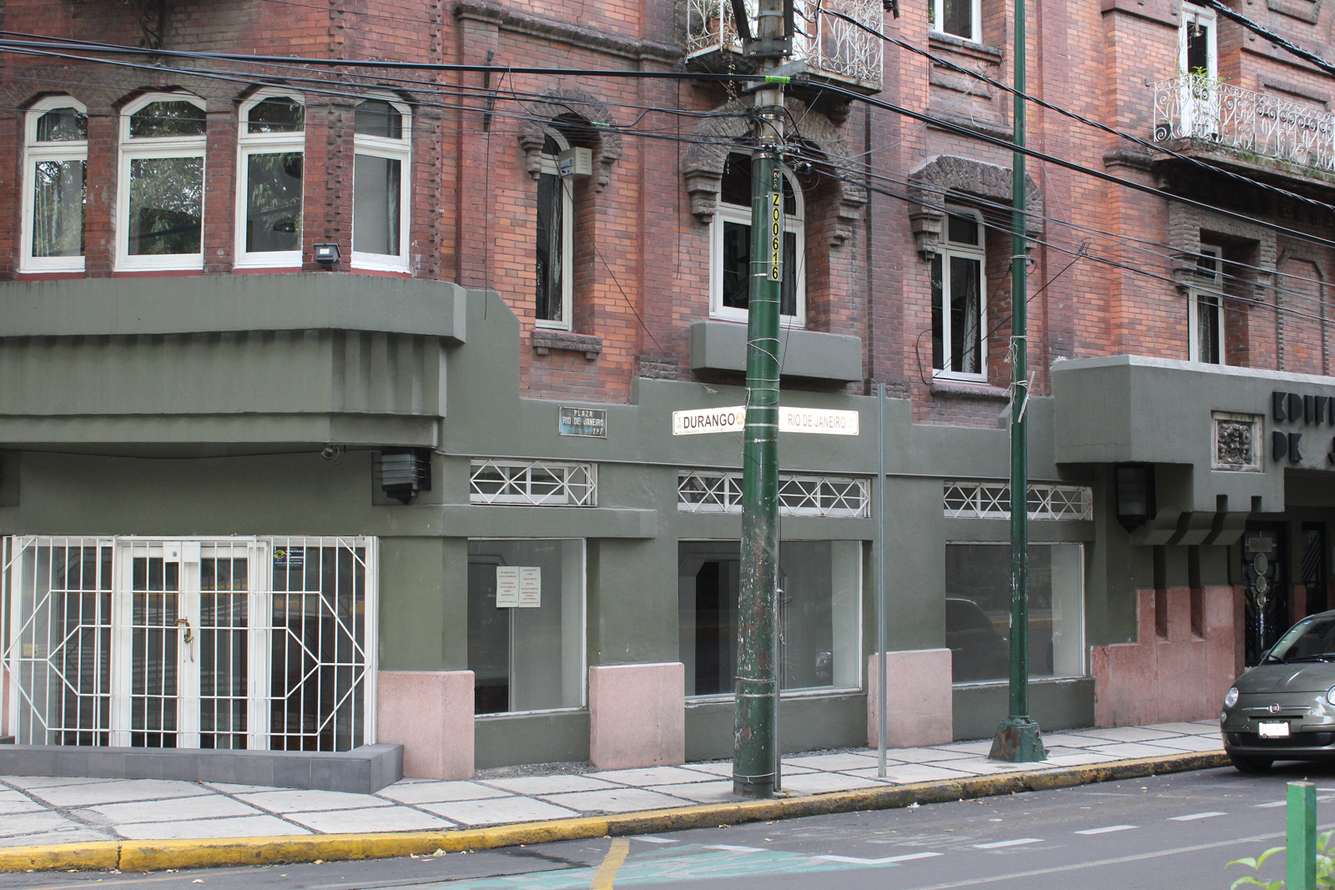fachada: (4, 6, 1335, 776)
poste: (999, 0, 1066, 761), (743, 4, 791, 797)
